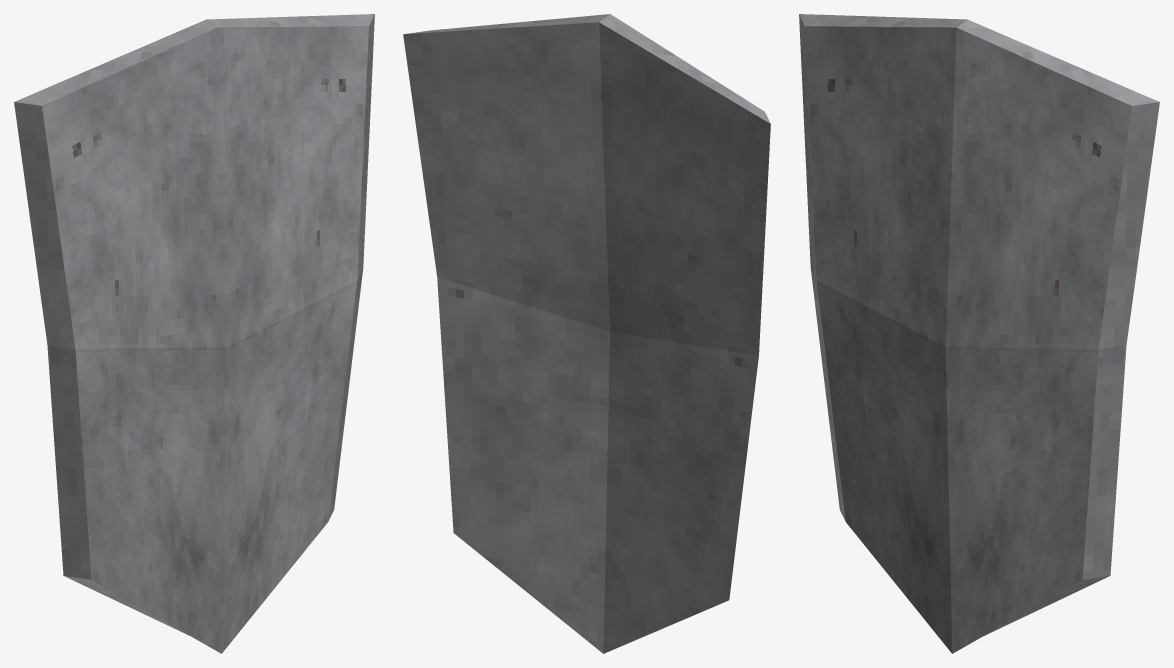
File: Shield.glb
3 views of the same model, side by side, from view 1: azimuth 30°, elevation 25°; view 2: azimuth 150°, elevation 25°; view 3: azimuth 330°, elevation 25° (orthographic).
Visible parts, largest first — view 1: Cube.002; view 2: Cube.002; view 3: Cube.002.
Part boxes in pixels (x1,y1,x2,y2): Cube.002: [14, 14, 374, 653]; Cube.002: [403, 14, 770, 653]; Cube.002: [799, 14, 1159, 653].
Size of the model in its own units: 8 by 13.2 by 1.3.
Materials: 1 (1 with a texture image).
